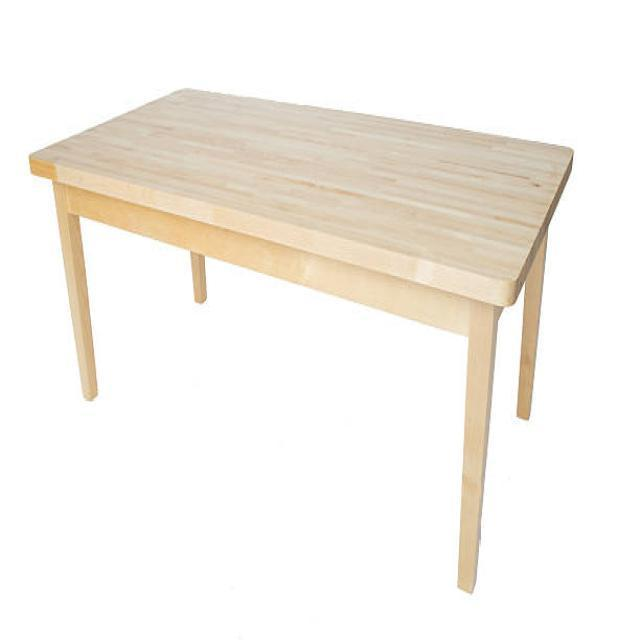table: (28, 85, 574, 593)
